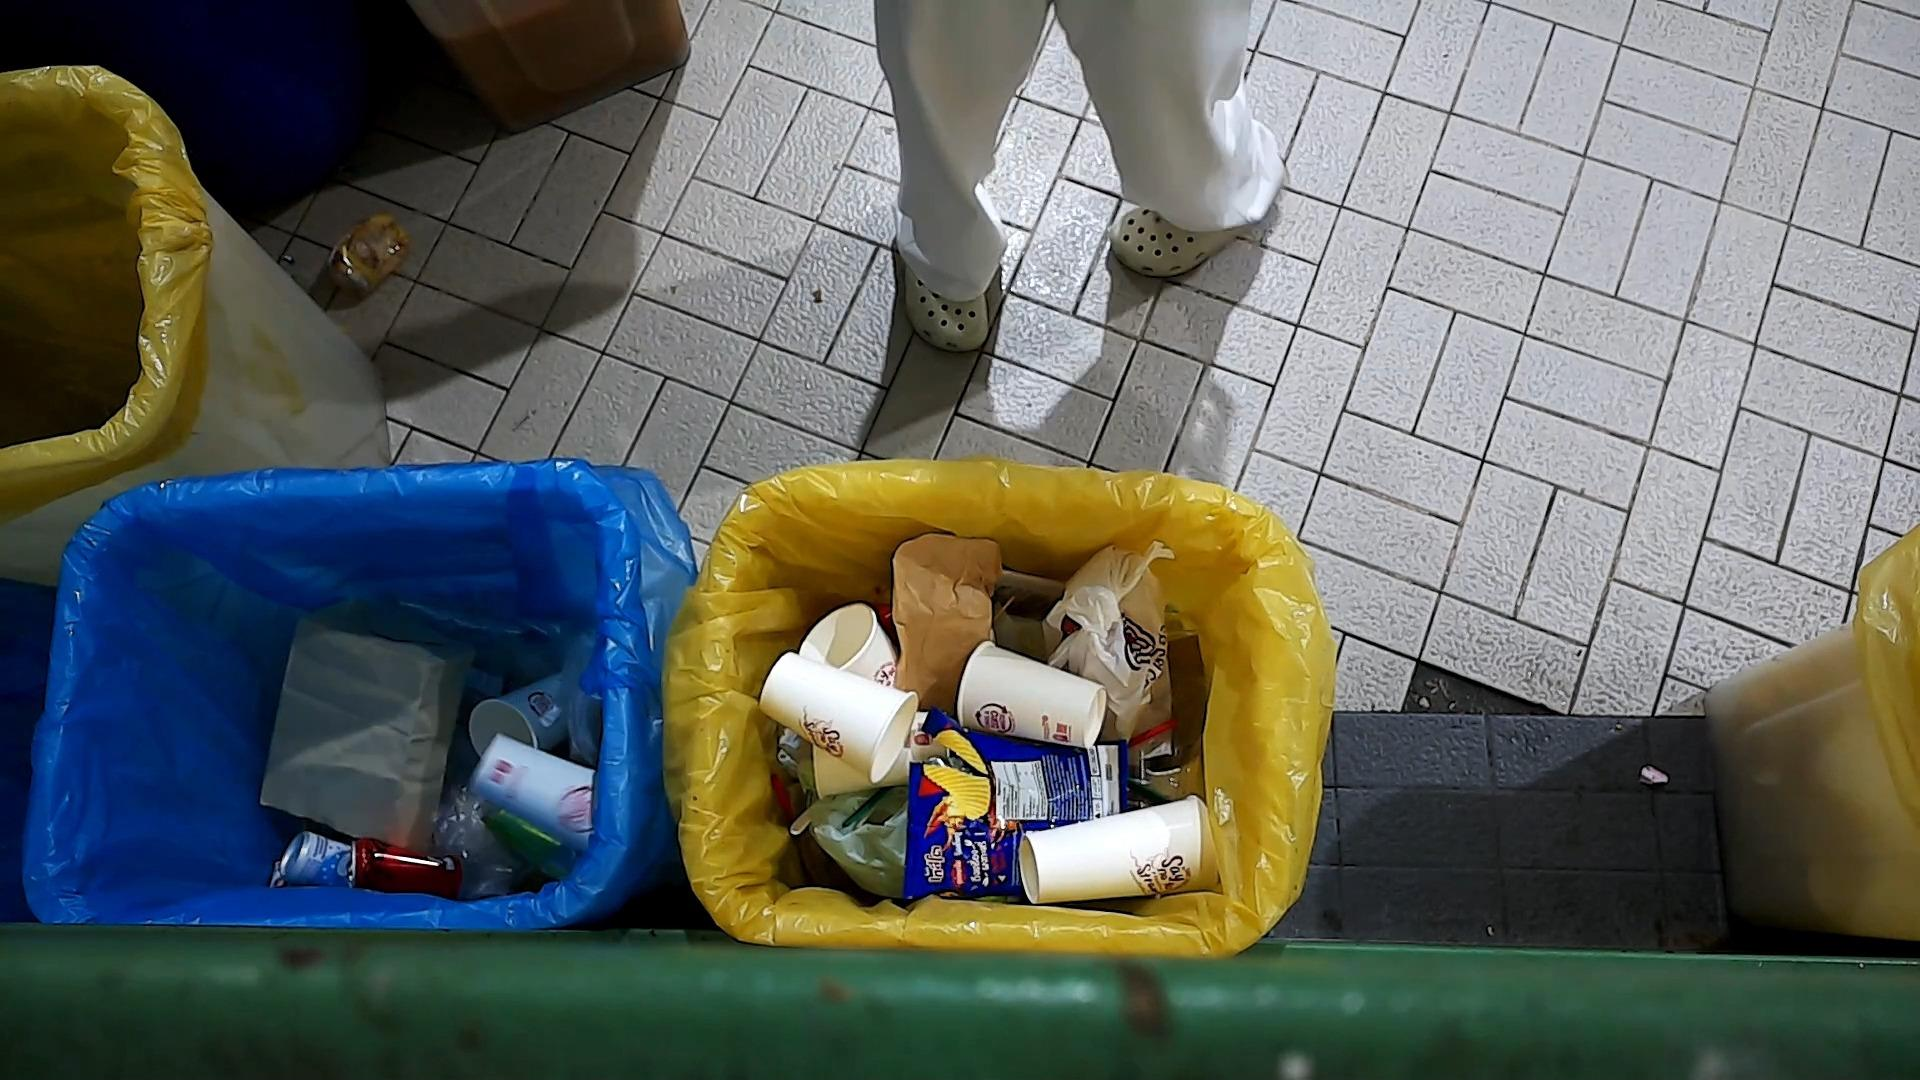can: (477, 800, 585, 888), (346, 835, 467, 901), (271, 829, 355, 891)
filled plastic bag: (1038, 538, 1179, 764)
paper bag: (258, 587, 481, 857), (882, 528, 1003, 706)
snack packaging: (901, 704, 1133, 902)
zero waste cup: (1014, 791, 1225, 910), (755, 646, 919, 790), (951, 637, 1111, 753), (465, 724, 601, 856), (465, 667, 575, 764), (796, 599, 901, 696)
